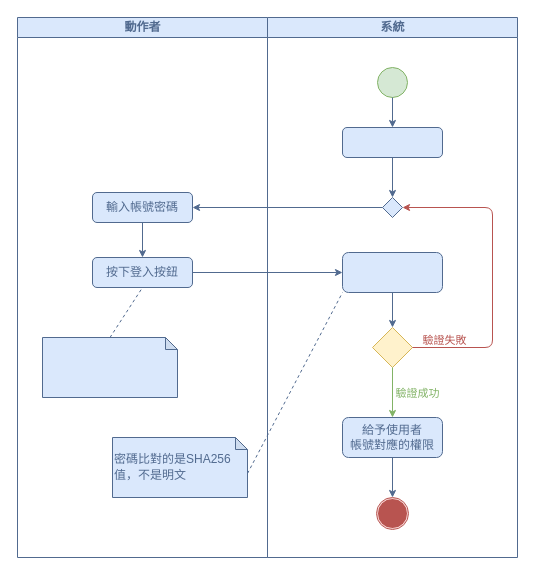
Image size: 535x575. Some labels were removed from this diagram. The shapes that lost their labels are listed below. From the top down, each one's centre as x and y in pixels, then its label:
At point (392, 142): "顯示登入畫面".
At point (392, 272): "驗證資料 是否存在且正確".
At point (110, 367): "若同IP連續10次登入失敗，則禁止登入1小時".
